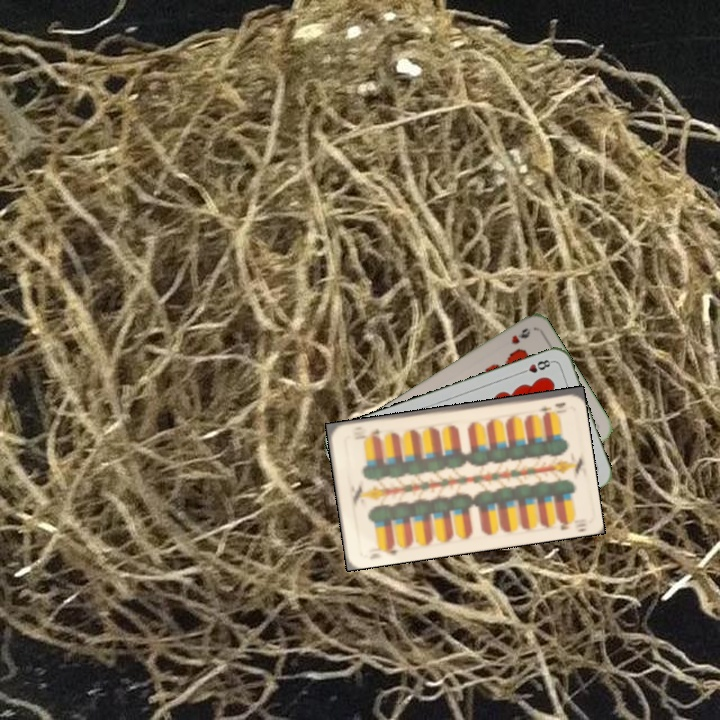E10: (534, 398, 569, 414), (378, 539, 400, 558)
H8: (516, 355, 555, 377)
H9: (507, 324, 533, 347)
